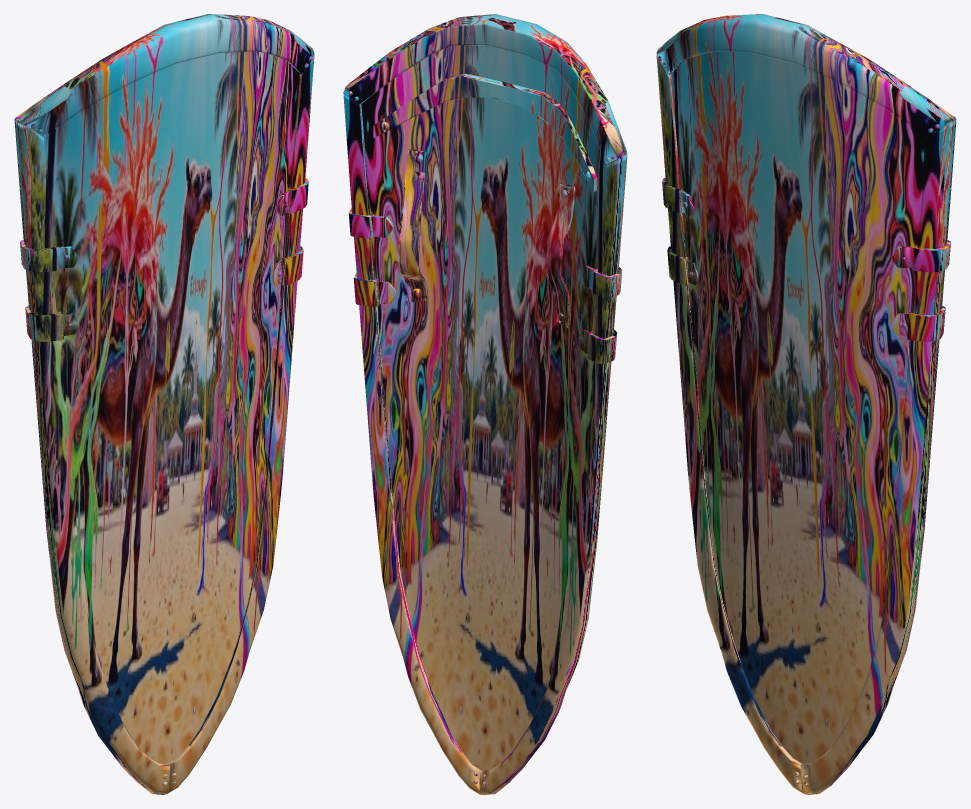
Rendered from ph_kite_shield.glb.
3 renders of one model, left to right at view 1: azimuth 30°, elevation 25°; view 2: azimuth 150°, elevation 25°; view 3: azimuth 330°, elevation 25°, orthographic. The views are drawn at different scales.
Parts seen in each view (by area): view 1: A; view 2: A; view 3: A.
Boxes of the visible parts, <box> form: A: <box>14,14,314,794</box>; A: <box>343,14,627,794</box>; A: <box>656,14,956,794</box>.
Bounding box in the file's own units: 0.7793 × 2 × 0.1933.
3 materials, 3 textured.
